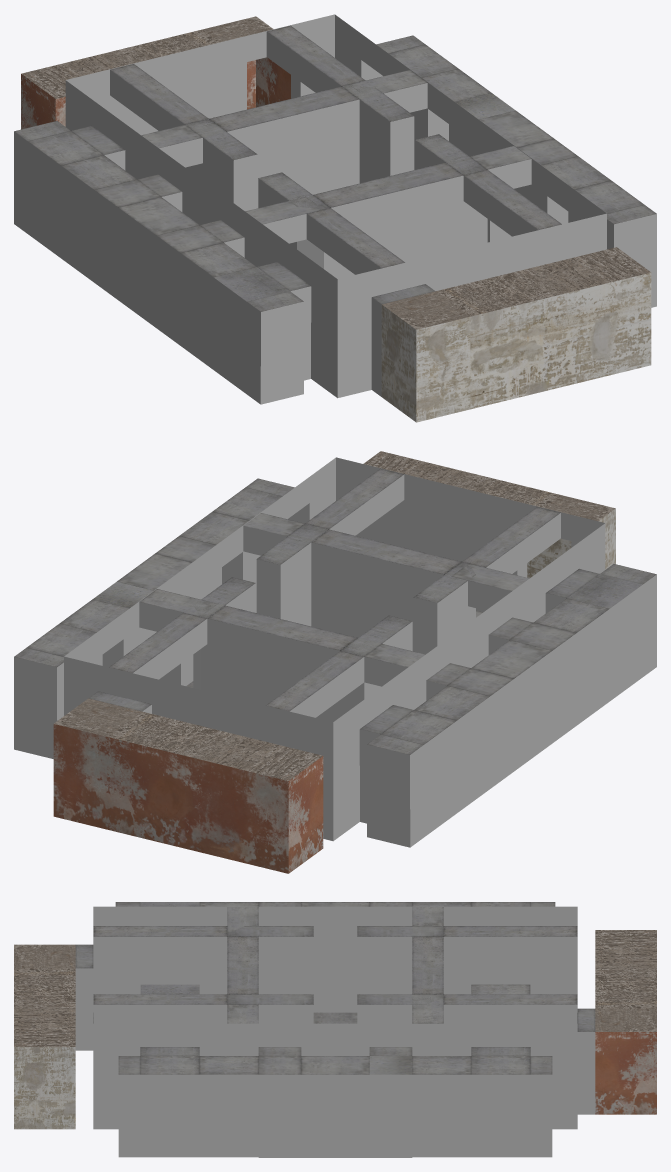
File: SM_Level_Test00_00.fbx
The picture shows the model from 3 angles, top to bottom: view 1: azimuth 30°, elevation 25°; view 2: azimuth 150°, elevation 25°; view 3: azimuth 270°, elevation 25°; orthographic projection. The views are drawn at different scales.
Visible parts, largest first — view 1: SM_Level_Test00_00; view 2: SM_Level_Test00_00; view 3: SM_Level_Test00_00.
Boxes of the visible parts, bbox=[...] form: SM_Level_Test00_00: bbox=[14, 14, 656, 422]; SM_Level_Test00_00: bbox=[14, 451, 656, 873]; SM_Level_Test00_00: bbox=[14, 902, 656, 1157].
Size of the model in its own units: 2414 by 1069 by 3799.
